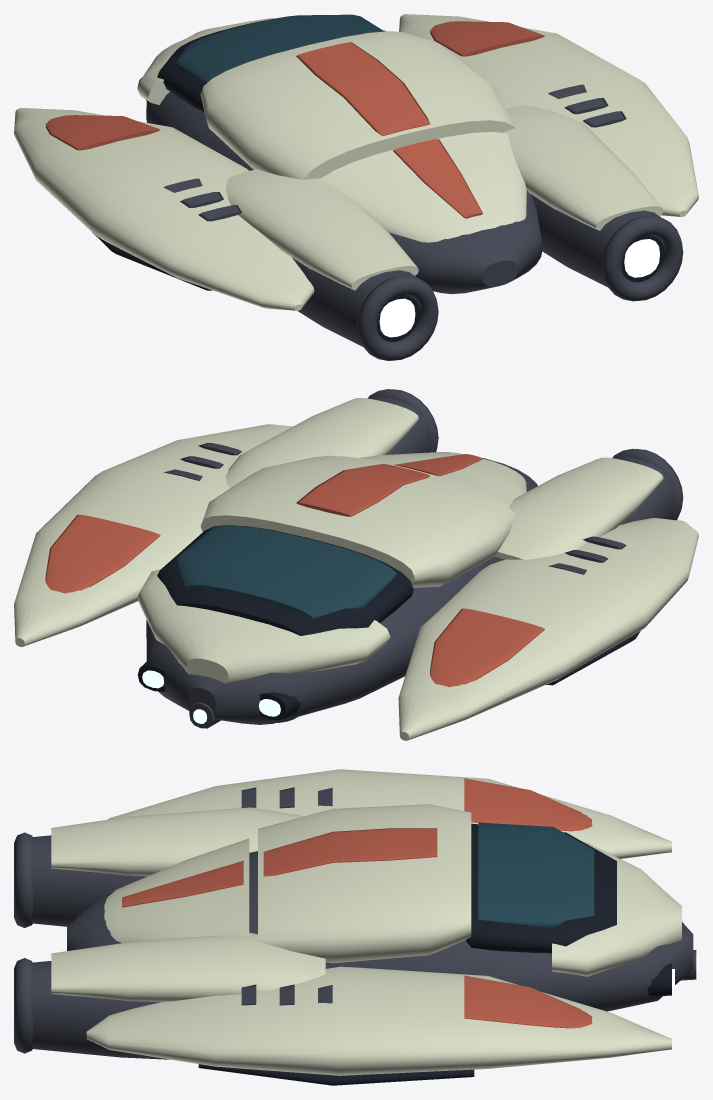
The model's file is scout.glb.
3 renders of one model, top to bottom at view 1: azimuth 30°, elevation 25°; view 2: azimuth 150°, elevation 25°; view 3: azimuth 270°, elevation 25°, orthographic. The views are drawn at different scales.
Parts seen in each view (by area): view 1: Shell3, Shell, Structure3, Shell2, Marking3, Glass, Marking, Marking2, Recess3, Light, Structure2, Structure; view 2: Shell3, Shell, Shell2, Structure3, Glass, Recess3, Marking2, Marking, Marking3, Structure, Light, Structure2; view 3: Shell3, Shell2, Structure3, Shell, Glass, Marking3, Recess3, Marking2, Marking, Recess2, Structure2, Structure.
Part boxes in pixels (x1,y1,x2,y2): Shell3: [137, 18, 663, 290]; Shell: [14, 108, 314, 310]; Structure3: [146, 91, 683, 360]; Shell2: [399, 14, 698, 216]; Marking3: [296, 42, 482, 218]; Glass: [174, 14, 384, 82]; Marking: [45, 115, 160, 150]; Marking2: [430, 21, 544, 56]; Recess3: [137, 20, 664, 341]; Light: [379, 239, 659, 337]; Structure2: [548, 84, 626, 127]; Structure: [163, 178, 241, 221]; Shell3: [137, 398, 663, 683]; Shell: [398, 518, 698, 740]; Shell2: [14, 424, 292, 646]; Structure3: [146, 389, 683, 728]; Glass: [174, 525, 396, 618]; Recess3: [137, 525, 413, 720]; Marking2: [45, 514, 160, 593]; Marking: [430, 608, 544, 687]; Marking3: [296, 454, 482, 516]; Structure: [548, 536, 626, 574]; Light: [142, 670, 280, 723]; Structure2: [164, 443, 241, 480]; Shell3: [51, 804, 681, 1001]; Shell2: [86, 966, 671, 1075]; Structure3: [14, 832, 696, 1059]; Shell: [108, 769, 671, 858]; Glass: [478, 822, 594, 927]; Marking3: [122, 828, 437, 907]; Recess3: [465, 823, 671, 996]; Marking2: [464, 975, 592, 1028]; Marking: [464, 778, 592, 831]; Recess2: [198, 1064, 474, 1085]; Structure2: [241, 984, 332, 1005]; Structure: [241, 787, 332, 808].
Bounding box in the file's own units: 4.76 × 1.36 × 4.85.
